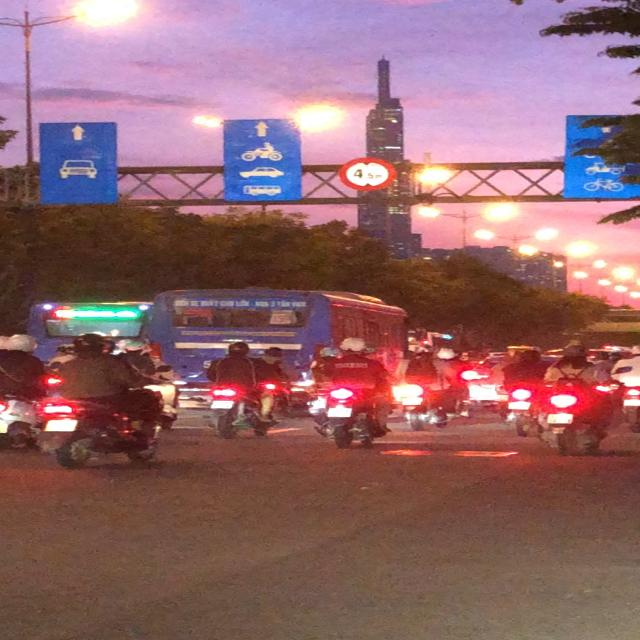Bien bao han che chieu cao: (334, 153, 397, 193)
